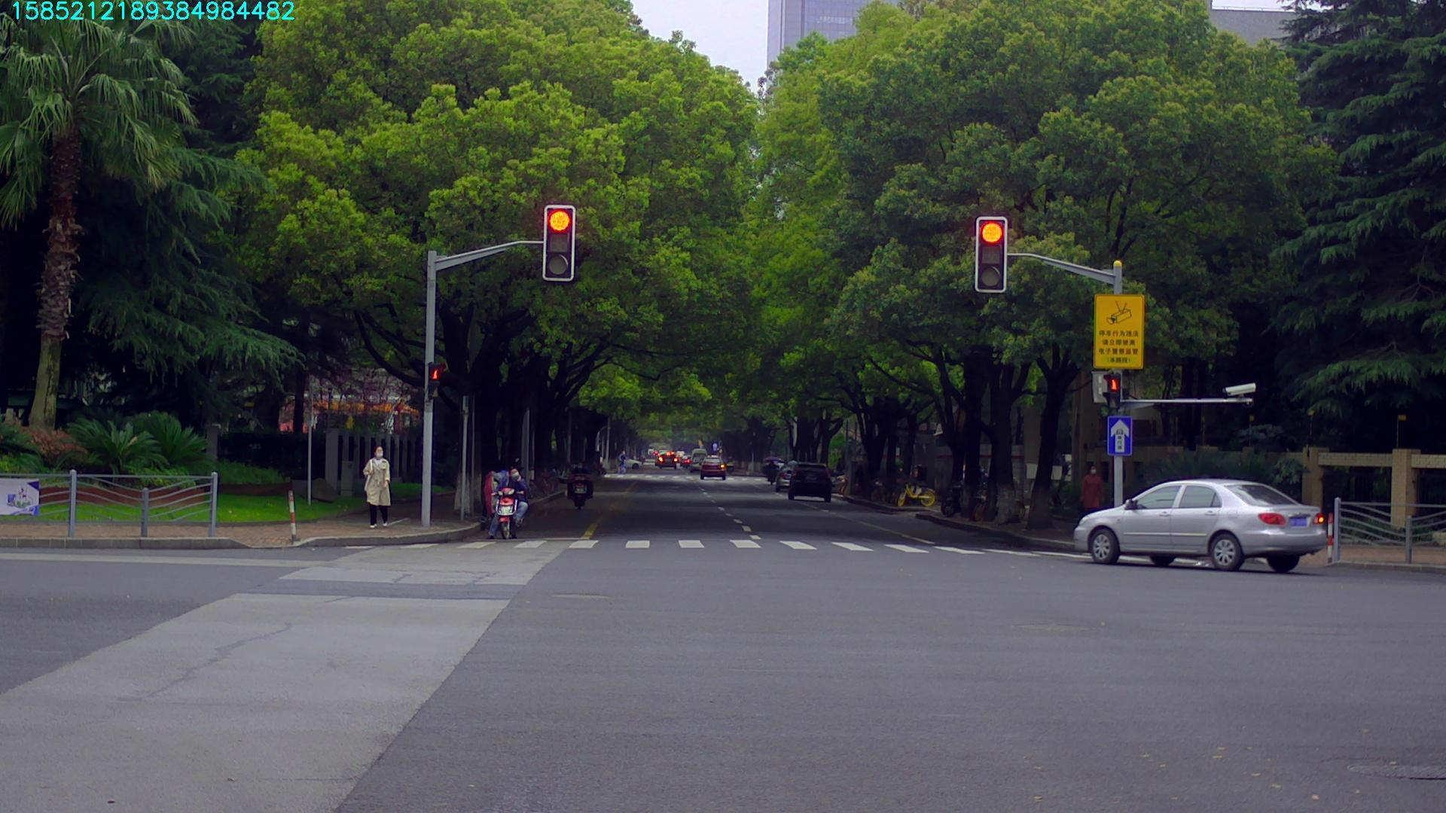red: (545, 206, 572, 278), (978, 218, 1004, 290)
